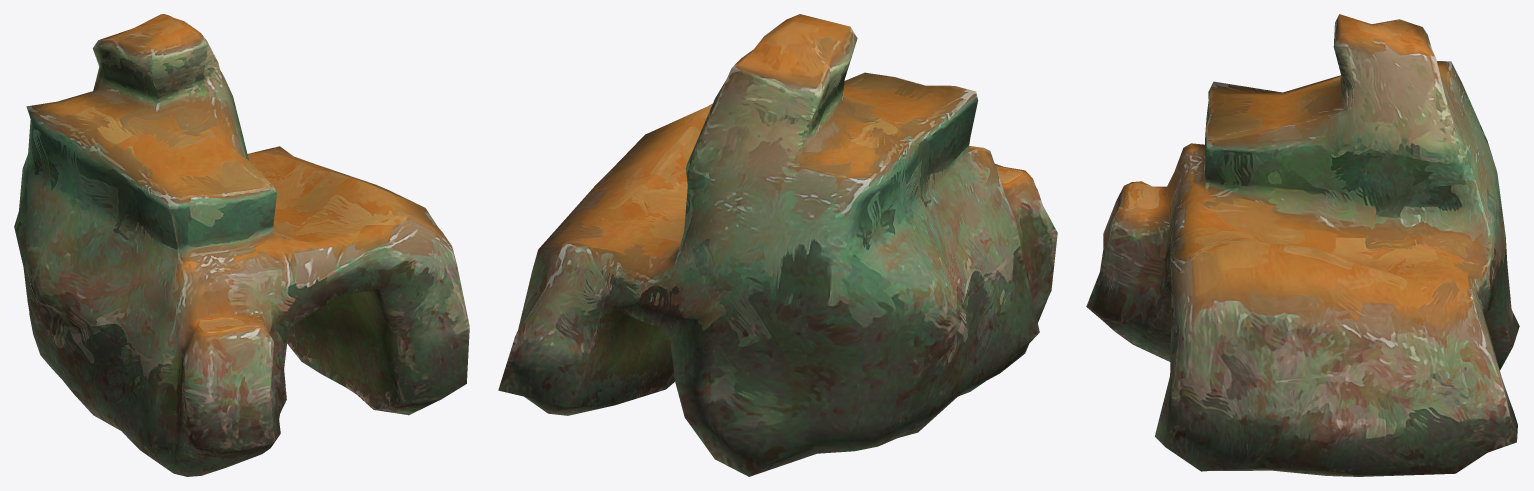
The model's file is tunnel_01.gltf.
3 views of the same model, side by side, from view 1: azimuth 30°, elevation 25°; view 2: azimuth 150°, elevation 25°; view 3: azimuth 270°, elevation 25° (orthographic). The views are drawn at different scales.
Visible parts, largest first — view 1: Tunnel01; view 2: Tunnel01; view 3: Tunnel01.
Boxes of the visible parts, <box> form: Tunnel01: <box>14,14,469,476</box>; Tunnel01: <box>498,14,1057,476</box>; Tunnel01: <box>1086,14,1519,476</box>.
Size of the model in its own units: 26.44 by 25.18 by 26.9.
Materials: 1 (1 with a texture image).
